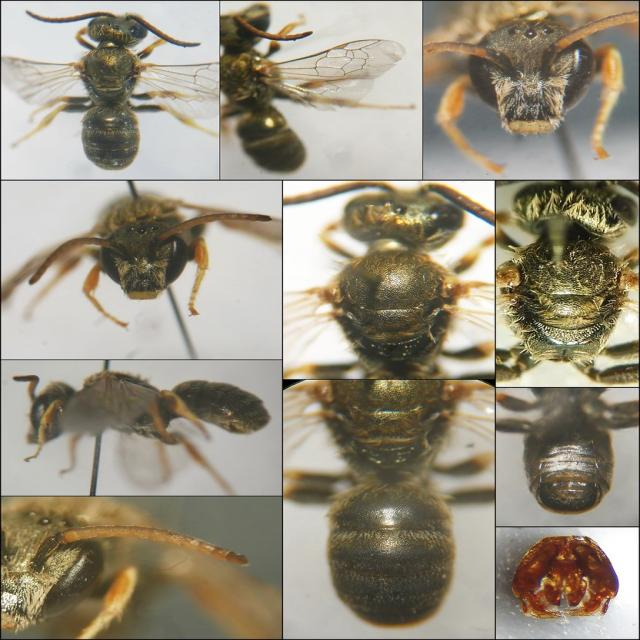Seladonia: (312, 369, 478, 633), (8, 183, 275, 331), (0, 494, 260, 634), (422, 4, 636, 170), (289, 180, 474, 372), (9, 361, 278, 488), (216, 2, 392, 175), (22, 5, 201, 168), (506, 180, 625, 382), (502, 386, 629, 512)
